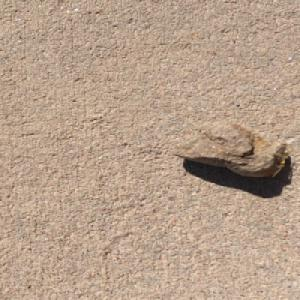Rock: (170, 121, 290, 178)
